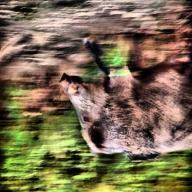boar: (63, 30, 192, 172)
